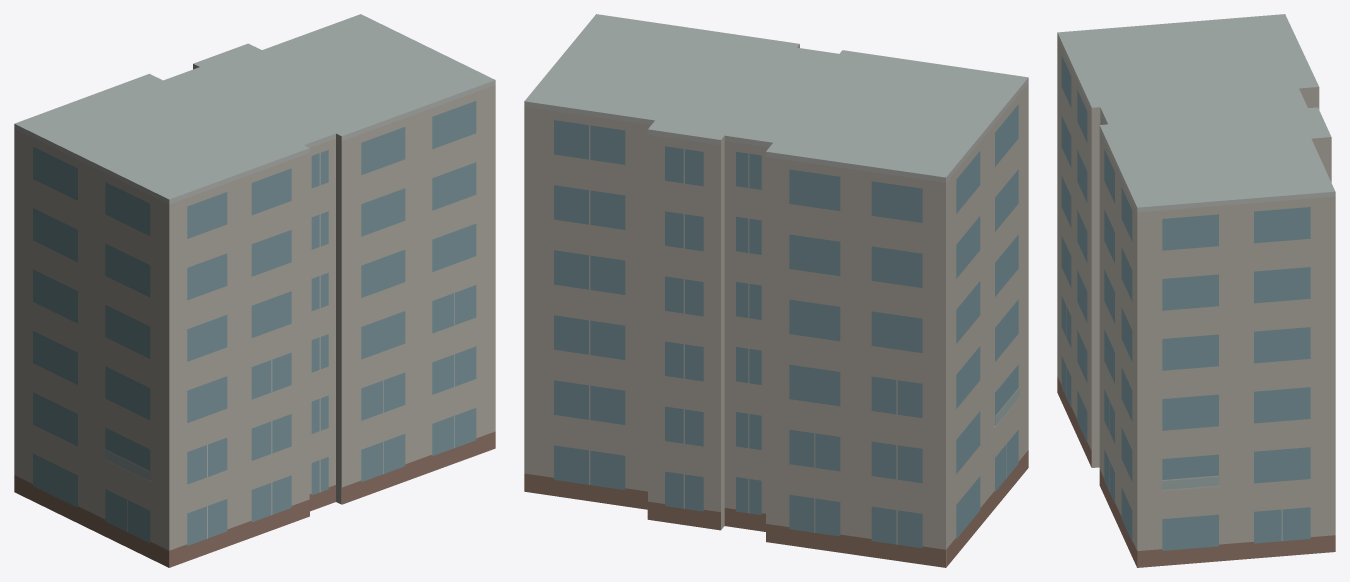
File: survey-upis-32641915.glb
3 renders of one model, left to right at view 1: azimuth 30°, elevation 25°; view 2: azimuth 150°, elevation 25°; view 3: azimuth 270°, elevation 25°, orthographic. The views are drawn at different scales.
Visible parts, largest first — view 1: survey-upis-32641915.tmp; view 2: survey-upis-32641915.tmp; view 3: survey-upis-32641915.tmp.
Part boxes in pixels (x1,y1,x2,y2): survey-upis-32641915.tmp: (14, 14, 495, 567); survey-upis-32641915.tmp: (524, 14, 1028, 567); survey-upis-32641915.tmp: (1057, 14, 1335, 567).
Bounding box in the file's own units: 21.1 × 18.3 × 12.81.
